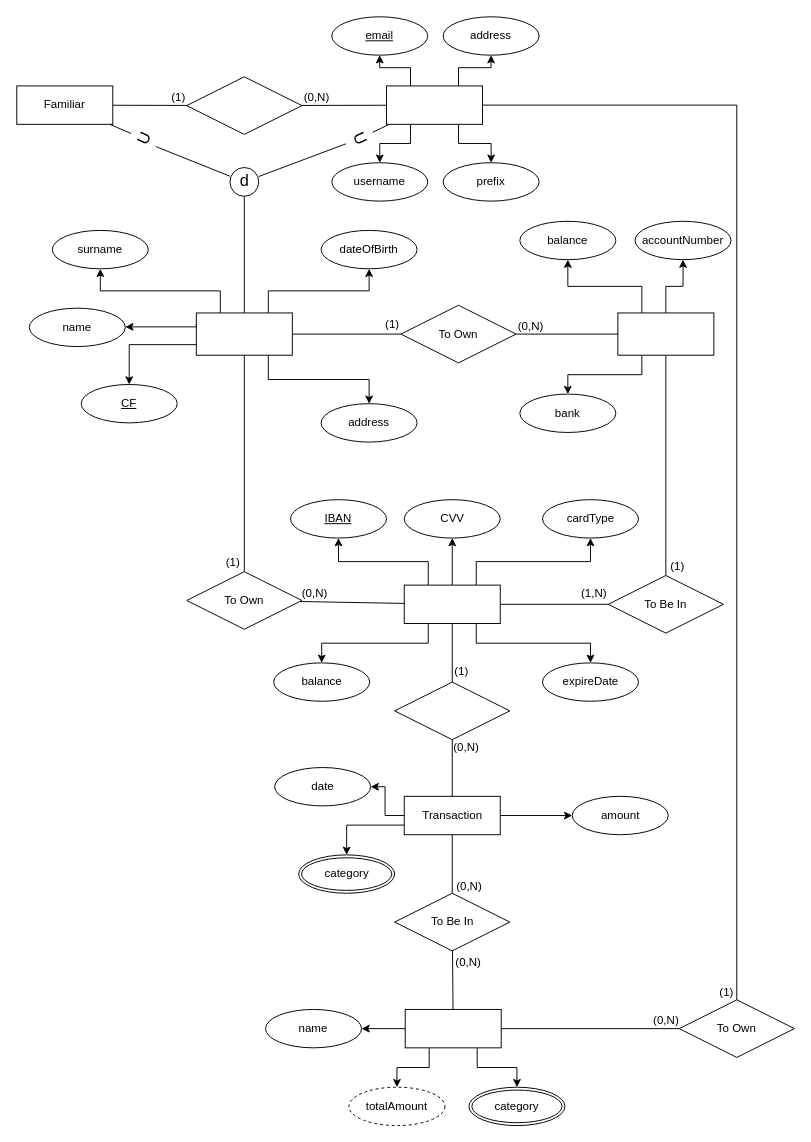
Some shapes in this 811 by 1142 pixel diagram are drawn without their labels. The shapes that lost their labels are listed below. From the top down, each one's centre as x and y in pixels, then its label:
At (x=244, y=105): "To Be Related".
At (x=434, y=104): "User".
At (x=243, y=333): "Person".
At (x=665, y=333): "BankAccount".
At (x=451, y=604): "Card".
At (x=452, y=710): "To Make".
At (x=452, y=1028): "Wallet".
